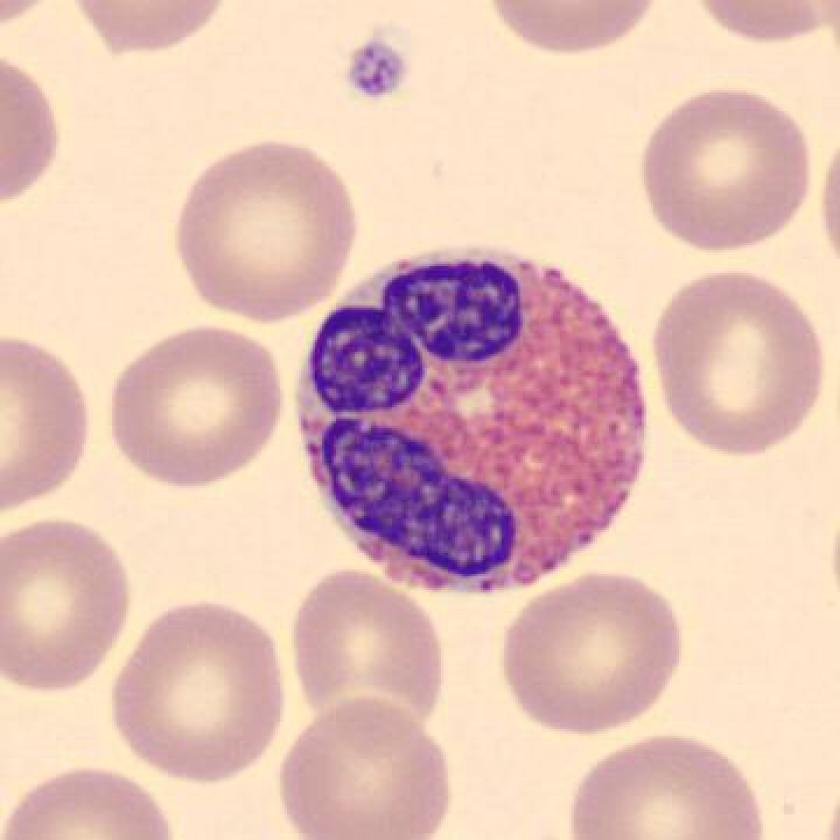eosinophil: (281, 235, 661, 612)
